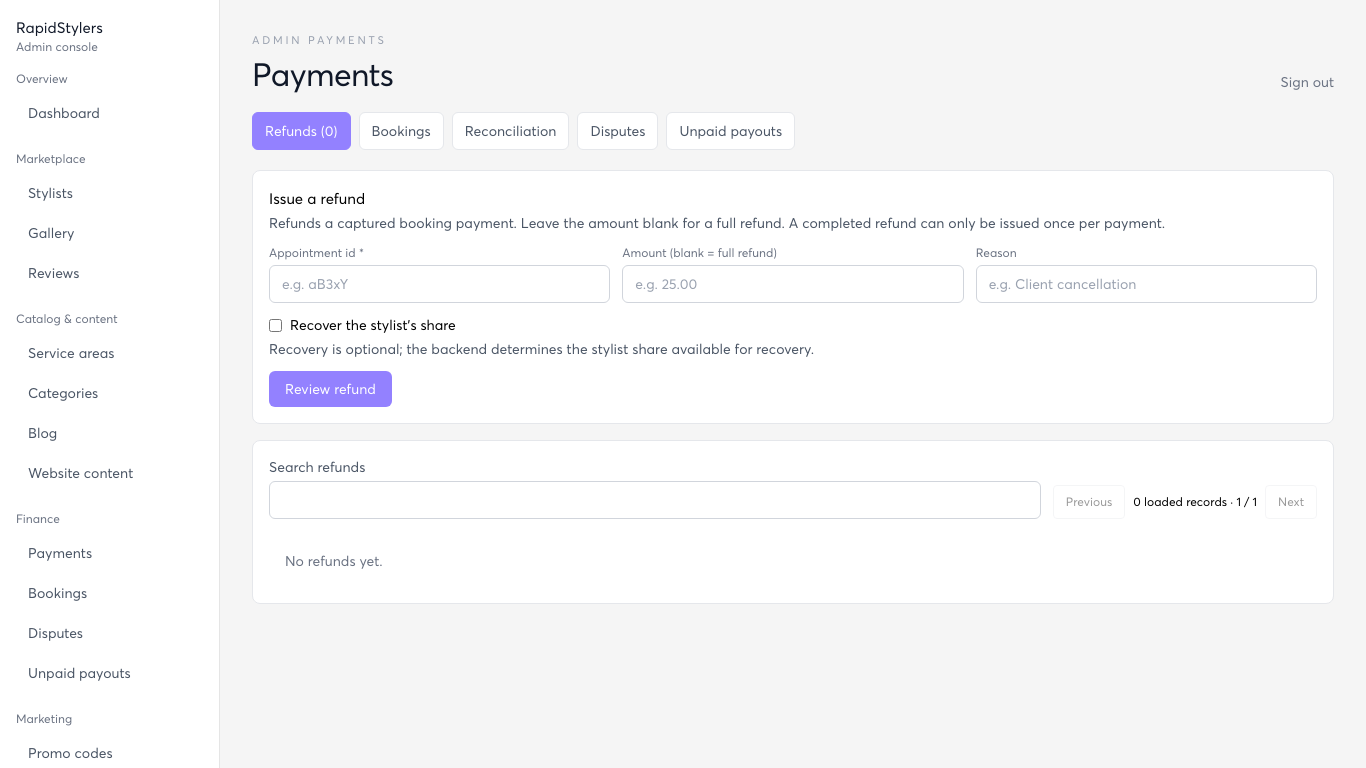
Test: rejects malformed lists with retry instead of showing an empty queue
The width and height of the screenshot is (1366, 768).
Expected: the text "No refunds yet." is shown, [285,552,382,569]
Click the button "Disputes" at (618, 131), box [577,112,658,150]
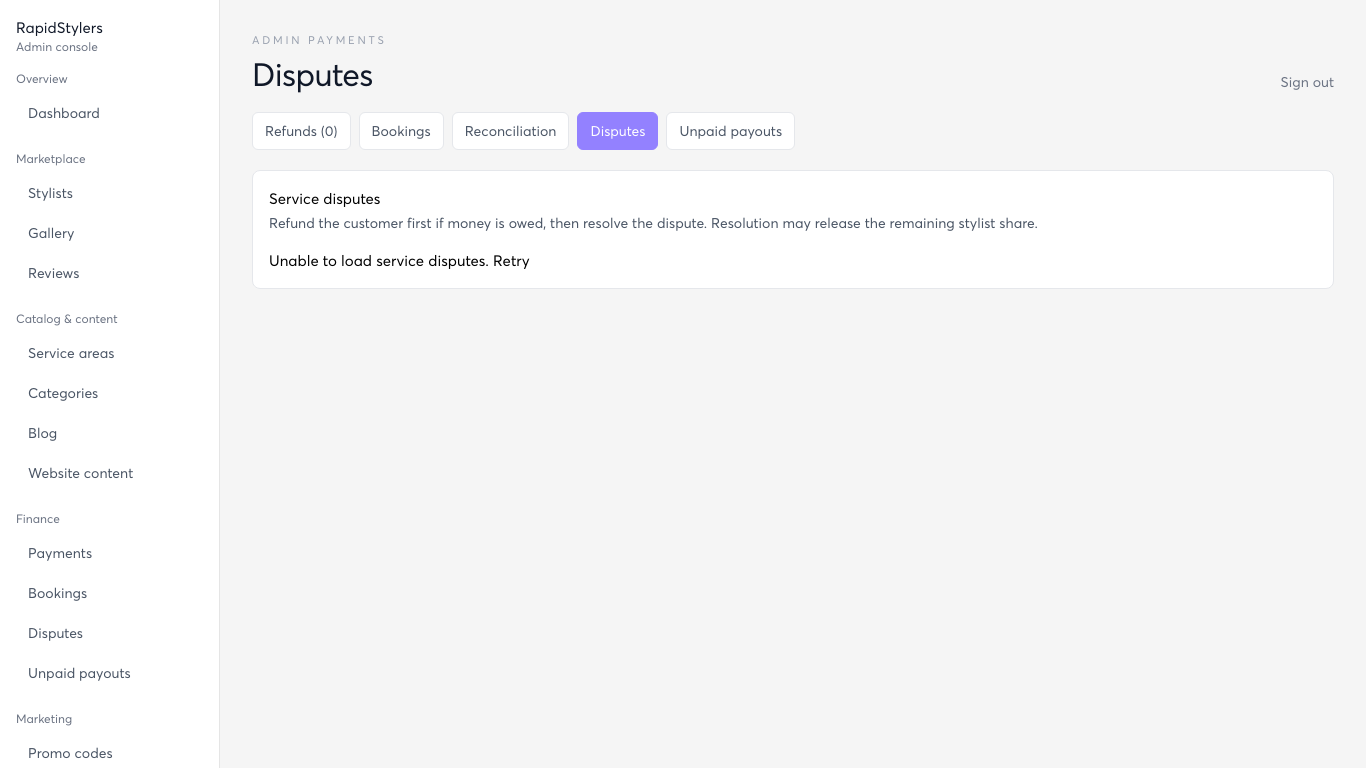
Expected: the message shows "Unable to load", [269,251,489,269]
Click the button "Retry" at (511, 260), box [493,249,530,272]
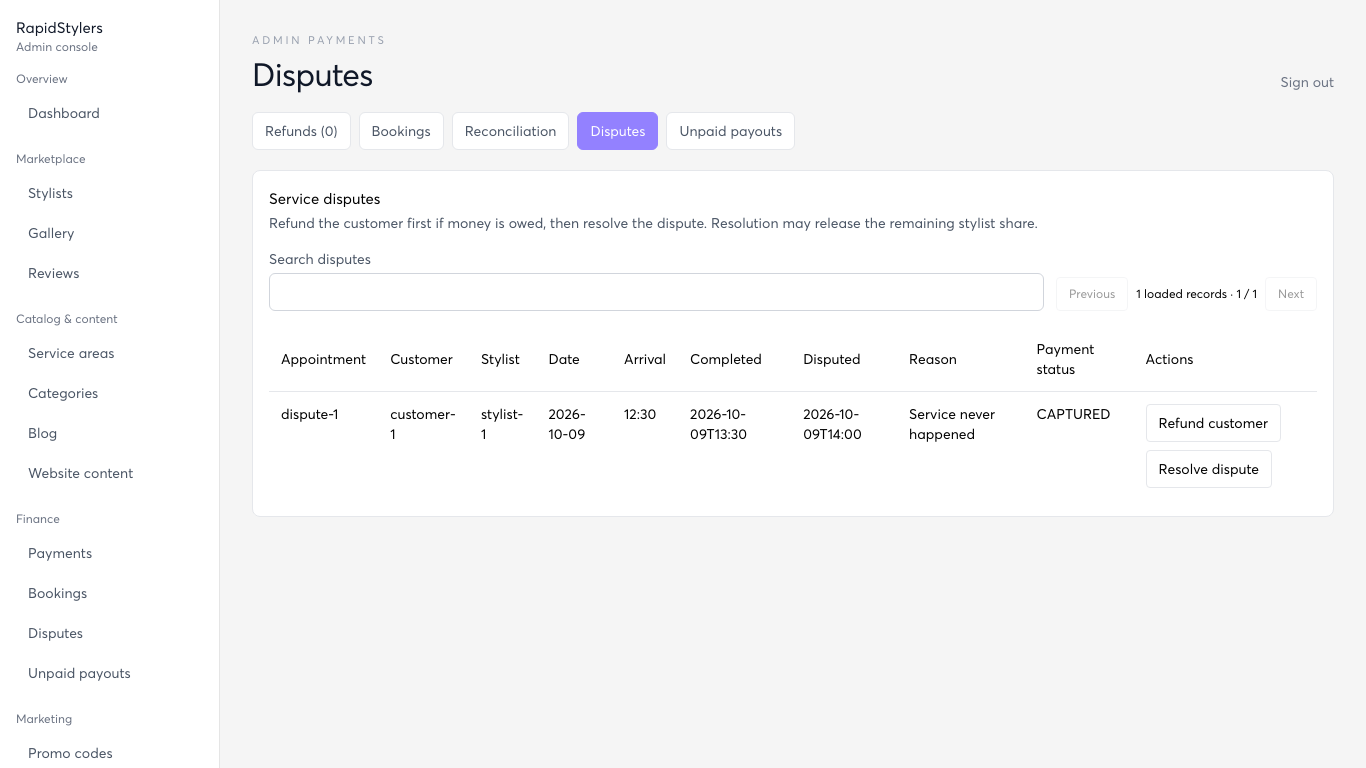
Expected: the text "Service never happened" is shown, [897,392,1025,500]
